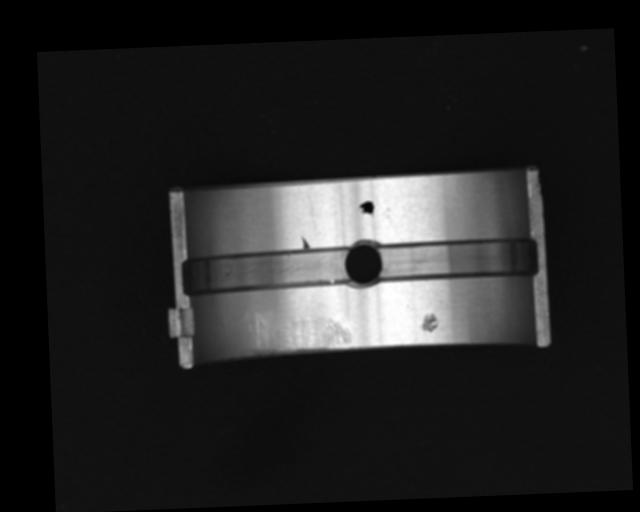blot: (358, 199, 375, 217)
bruise: (418, 310, 440, 333), (301, 235, 312, 249)
gap: (183, 246, 352, 297), (372, 235, 542, 283)
hole: (341, 239, 383, 290)
nick: (307, 193, 316, 230)
scratch: (244, 312, 353, 355)
